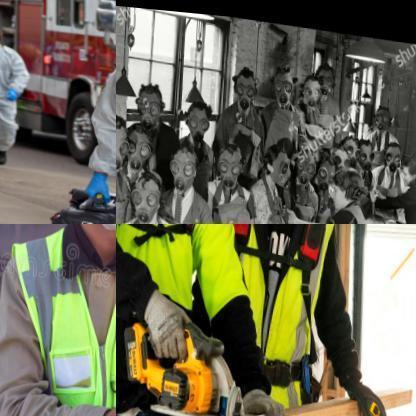vest: (215, 224, 338, 410), (3, 224, 115, 410), (0, 36, 37, 106)
